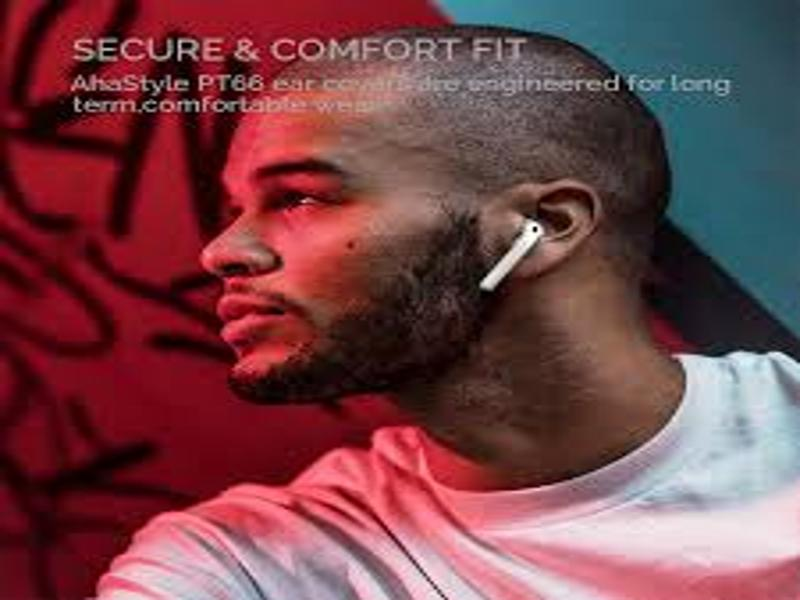headphone: (477, 217, 546, 292)
